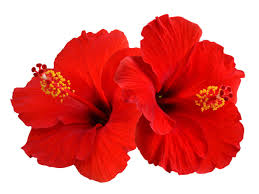hybiscus: (119, 14, 249, 173)
